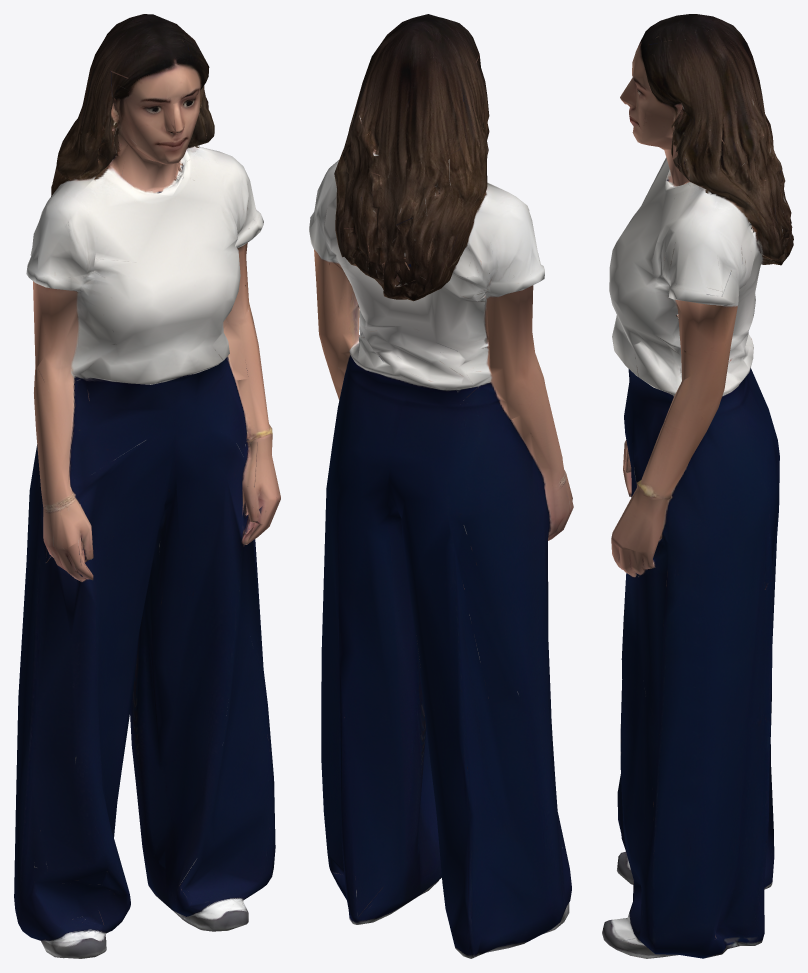
Rendered from Mia.glb.
3 views of the same model, side by side, from view 1: azimuth 30°, elevation 25°; view 2: azimuth 150°, elevation 25°; view 3: azimuth 270°, elevation 25° (orthographic).
Visible parts, largest first — view 1: Mesh1.0; view 2: Mesh1.0; view 3: Mesh1.0.
Boxes of the visible parts, x1,y1,x2,y2 form: Mesh1.0: (14,14,280,958); Mesh1.0: (309,14,573,958); Mesh1.0: (602,14,793,958).
Size of the model in its own units: 0.5521 by 1.91 by 0.3658.
Materials: 1 (1 with a texture image).
